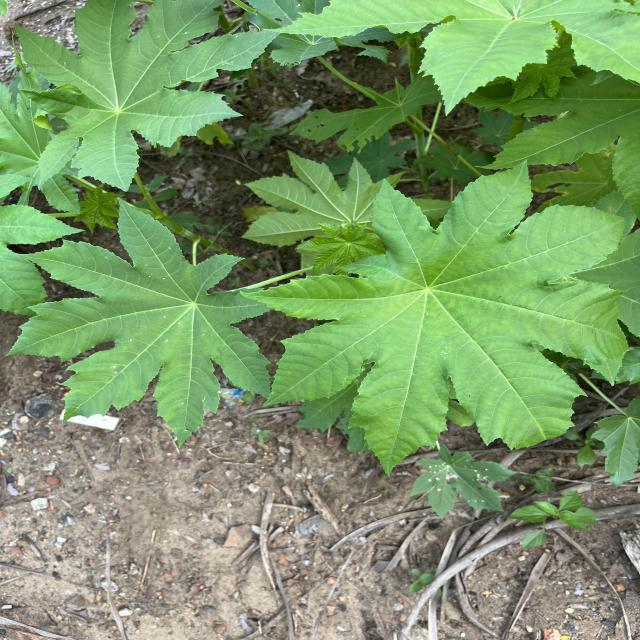Ricinus communis linn: (236, 154, 637, 482), (0, 195, 276, 451)
